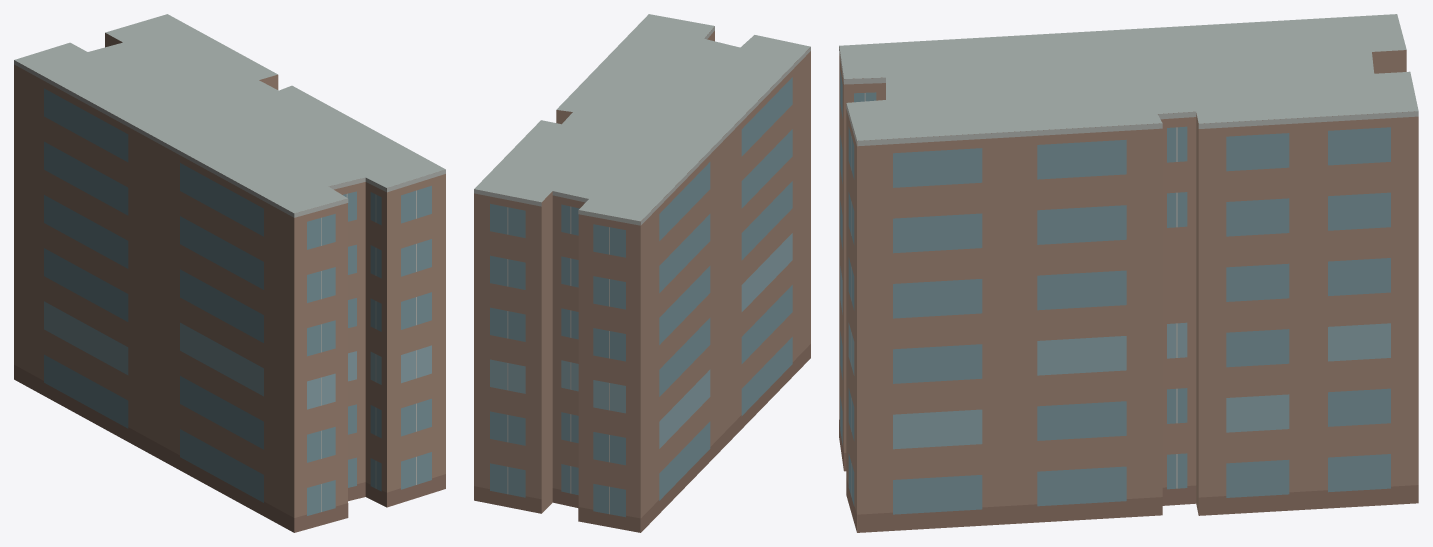
File: survey-upis-32575572.glb
The picture shows the model from 3 angles, left to right: view 1: azimuth 30°, elevation 25°; view 2: azimuth 150°, elevation 25°; view 3: azimuth 270°, elevation 25°; orthographic projection. The views are drawn at different scales.
Parts seen in each view (by area): view 1: survey-upis-32575572.tmp; view 2: survey-upis-32575572.tmp; view 3: survey-upis-32575572.tmp.
Boxes of the visible parts, left/top/right/bottom form: survey-upis-32575572.tmp: left=14, top=14, right=445, bottom=532; survey-upis-32575572.tmp: left=474, top=14, right=810, bottom=532; survey-upis-32575572.tmp: left=839, top=14, right=1418, bottom=532.
Size of the model in its own units: 12.29 by 17.7 by 23.72.
